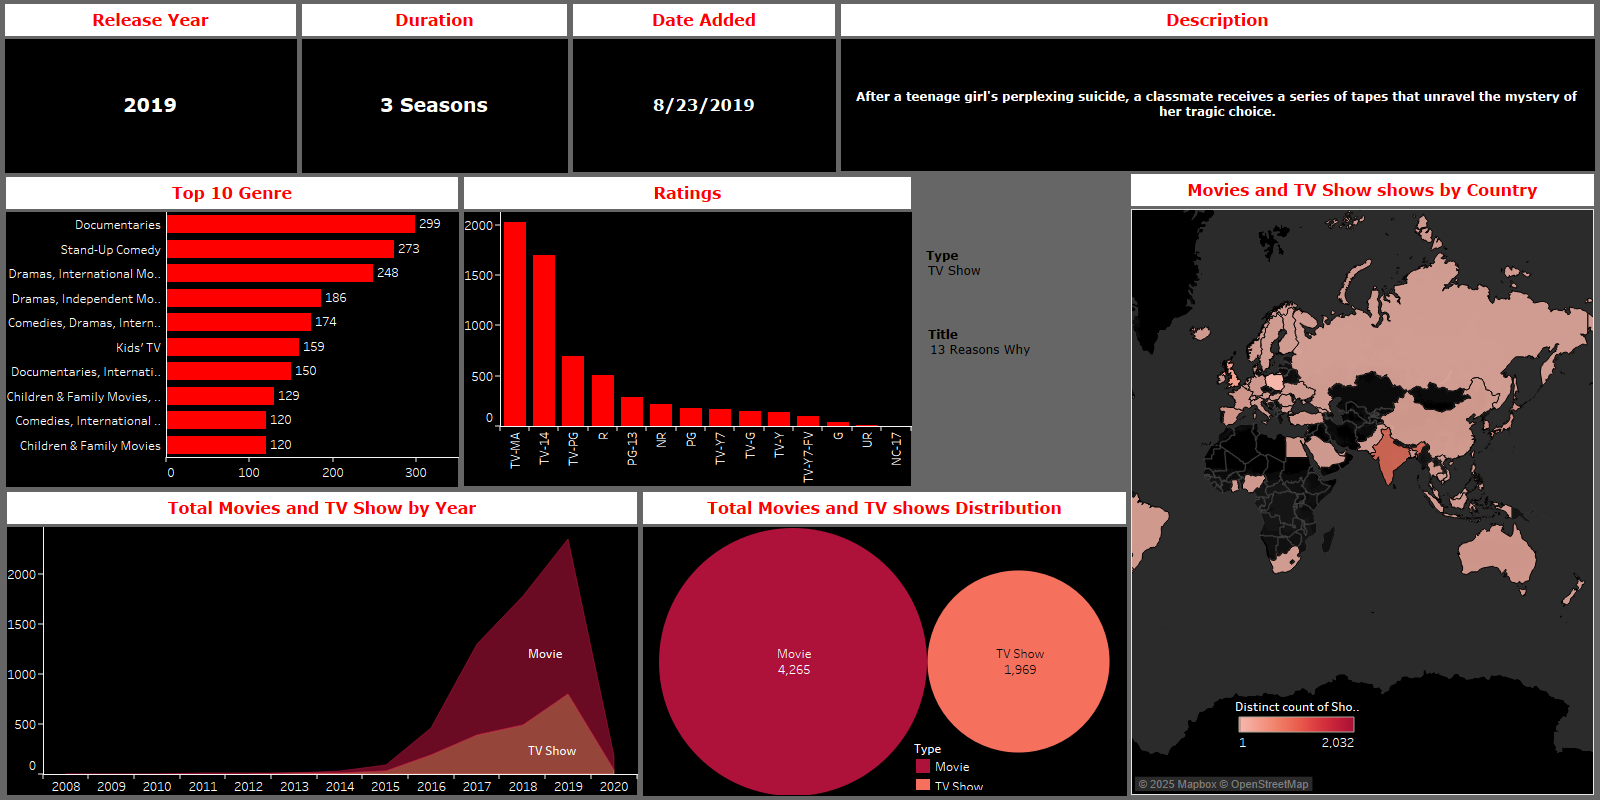

What the dashboard file says about the page in this screenshot:
{"tool":"tableau","page":{"name":"Dashboard 1","canvas":[1600,800],"ordinal":0},"visuals":[{"type":"worksheet","title":"Release year","mark":"Automatic","box":[5,4,291,168]},{"type":"worksheet","title":"Duration","mark":"Automatic","box":[302,4,265,168]},{"type":"worksheet","title":"Date Added","mark":"Automatic","box":[573,4,262,167]},{"type":"worksheet","title":"Description","mark":"Automatic","box":[841,4,753,166]},{"type":"worksheet","title":"Movies and TV show","mark":"Multipolygon","box":[1131,174,463,621]},{"type":"worksheet","title":"Top 10 Genre","mark":"Automatic","rows":["listed_in"],"cols":["show_id"],"box":[6,177,452,310]},{"type":"worksheet","title":"Ratings","mark":"Automatic","rows":["show_id"],"cols":["rating"],"box":[464,177,447,309]},{"type":"filter","title":"Description","param":"[federated.00g4y511a7d6uu1fyrp5k0ss6wuv].[none:type:nk]","box":[926,247,192,52]},{"type":"filter","title":"Description","param":"[federated.00g4y511a7d6uu1fyrp5k0ss6wuv].[none:title:nk]","box":[928,326,192,60]},{"type":"worksheet","title":"Total movies and TV shows by ","mark":"Area","rows":["show_id"],"cols":["date_added"],"box":[7,492,630,303]},{"type":"worksheet","title":"Total Movies and TV show Distribution","mark":"Circle","box":[643,492,483,303]},{"type":"legend","title":"Movies and TV show","param":"[federated.00g4y511a7d6uu1fyrp5k0ss6wuv].[ctd:show_id:qk]","box":[1235,694,124,54]},{"type":"legend","title":"Total Movies and TV show Distribution","param":"[federated.00g4y511a7d6uu1fyrp5k0ss6wuv].[none:type:nk]","box":[913,738,102,52]}]}

Visuals, with their boxes in screenshot pixels (x1, y1, x2, y2), scaled from the page's 1600x800 canvas onto the 1600x800 screenshot:
"Release year" worksheet: [x1=5, y1=4, x2=296, y2=172]
"Duration" worksheet: [x1=302, y1=4, x2=567, y2=172]
"Date Added" worksheet: [x1=573, y1=4, x2=835, y2=171]
"Description" worksheet: [x1=841, y1=4, x2=1594, y2=170]
"Movies and TV show" worksheet (Multipolygon marks): [x1=1131, y1=174, x2=1594, y2=795]
"Top 10 Genre" worksheet: [x1=6, y1=177, x2=458, y2=487]
"Ratings" worksheet: [x1=464, y1=177, x2=911, y2=486]
"Description" filter: [x1=926, y1=247, x2=1118, y2=299]
"Description" filter: [x1=928, y1=326, x2=1120, y2=386]
"Total movies and TV shows by " worksheet (Area marks): [x1=7, y1=492, x2=637, y2=795]
"Total Movies and TV show Distribution" worksheet (Circle marks): [x1=643, y1=492, x2=1126, y2=795]
"Movies and TV show" legend: [x1=1235, y1=694, x2=1359, y2=748]
"Total Movies and TV show Distribution" legend: [x1=913, y1=738, x2=1015, y2=790]
